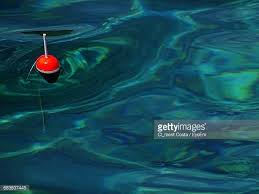buoy: (35, 54, 60, 74)
